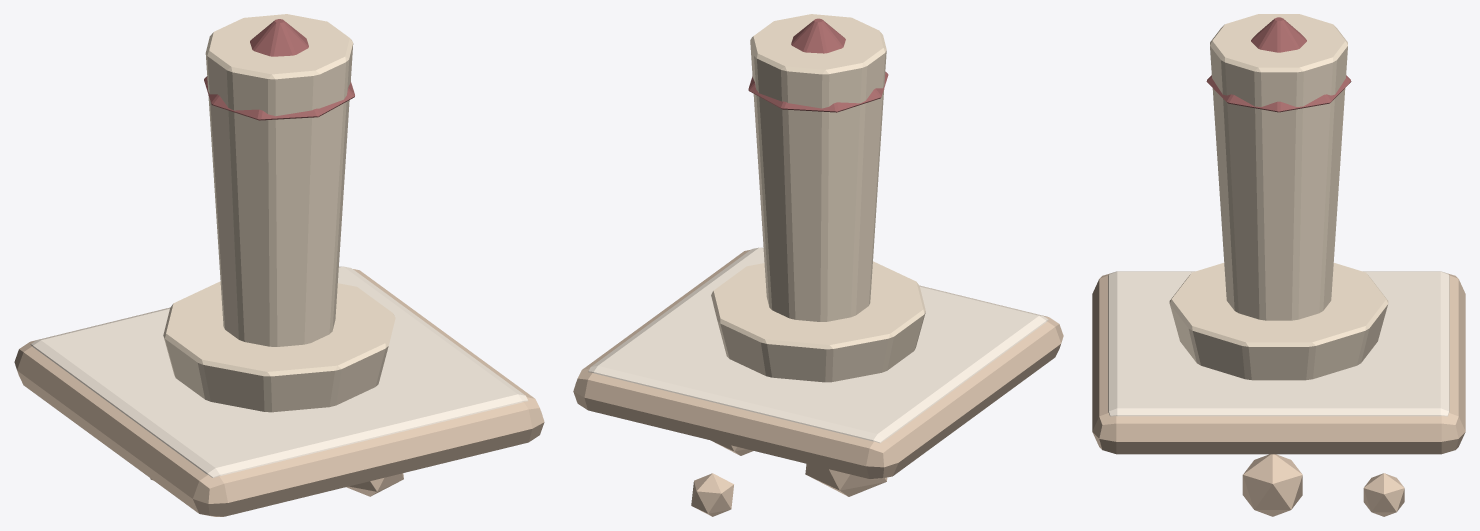
File: island_recall.glb
The picture shows the model from 3 angles, left to right: view 1: azimuth 30°, elevation 25°; view 2: azimuth 150°, elevation 25°; view 3: azimuth 270°, elevation 25°; orthographic projection. The views are drawn at different scales.
Parts seen in each view (by area): view 1: island_recall; view 2: island_recall; view 3: island_recall.
Boxes of the visible parts, x1,y1,x2,y2 form: island_recall: (14, 14, 544, 516); island_recall: (573, 14, 1063, 516); island_recall: (1092, 14, 1465, 516).
Size of the model in its own units: 1.56 by 2.17 by 1.56.
